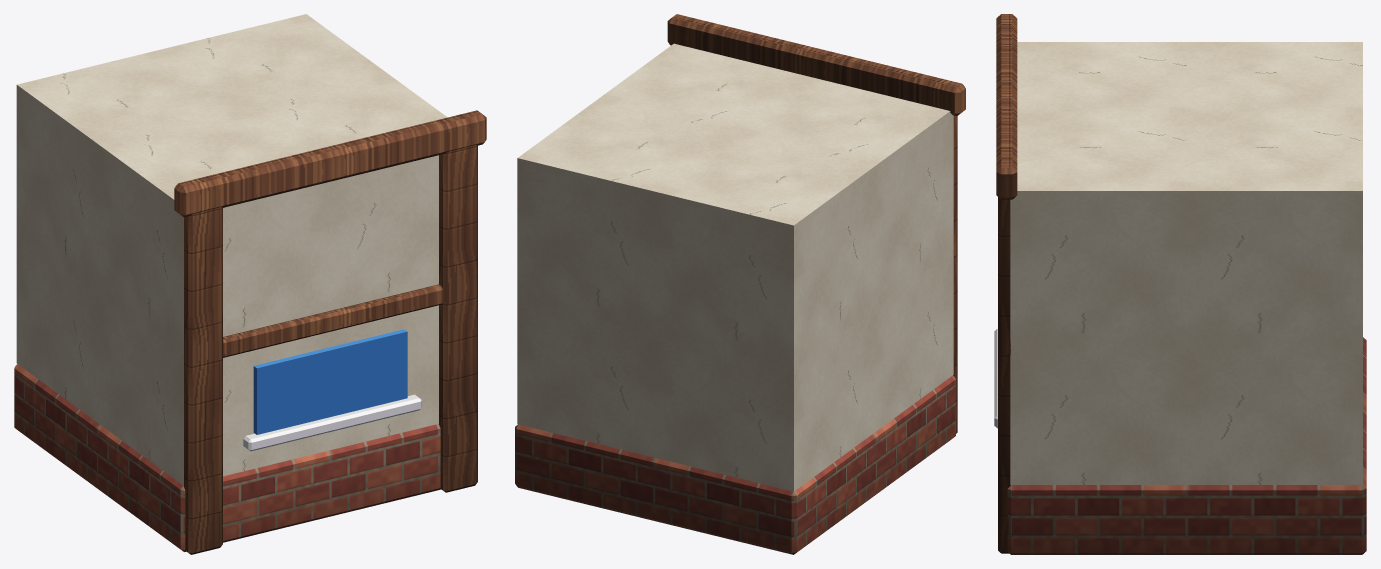
File: building_wall.glb
3 renders of one model, left to right at view 1: azimuth 30°, elevation 25°; view 2: azimuth 150°, elevation 25°; view 3: azimuth 270°, elevation 25°, orthographic. The views are drawn at different scales.
Visible parts, largest first — view 1: building_wall; view 2: building_wall; view 3: building_wall.
Boxes of the visible parts, x1,y1,x2,y2 form: building_wall: [14, 14, 486, 554]; building_wall: [515, 14, 965, 554]; building_wall: [994, 14, 1366, 554].
Bounding box in the file's own units: 1.06 × 1.22 × 1.06.
7 materials, 7 textured.
